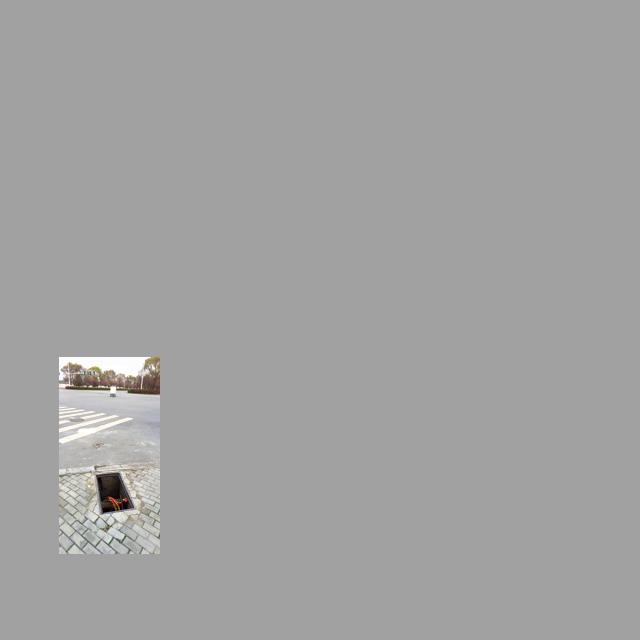lose: (95, 471, 137, 514)
